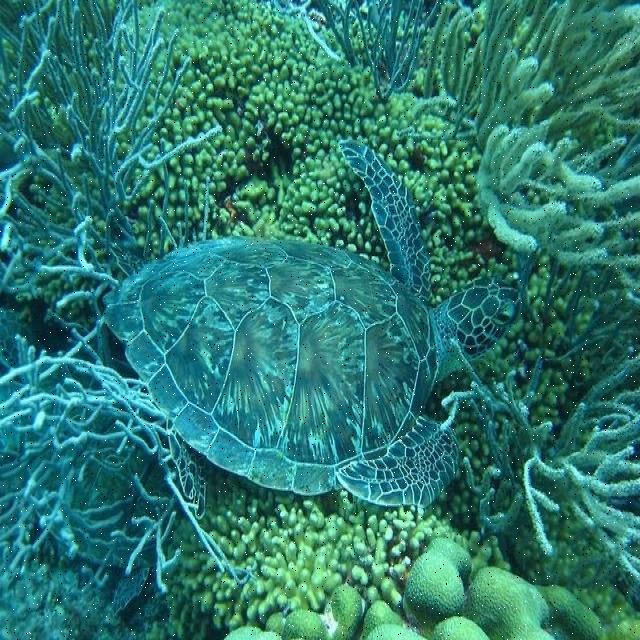fish: (103, 140, 521, 518)
reefs: (0, 0, 259, 593), (135, 1, 514, 299), (401, 2, 639, 291), (440, 253, 639, 585), (224, 537, 609, 638), (272, 0, 442, 99)
